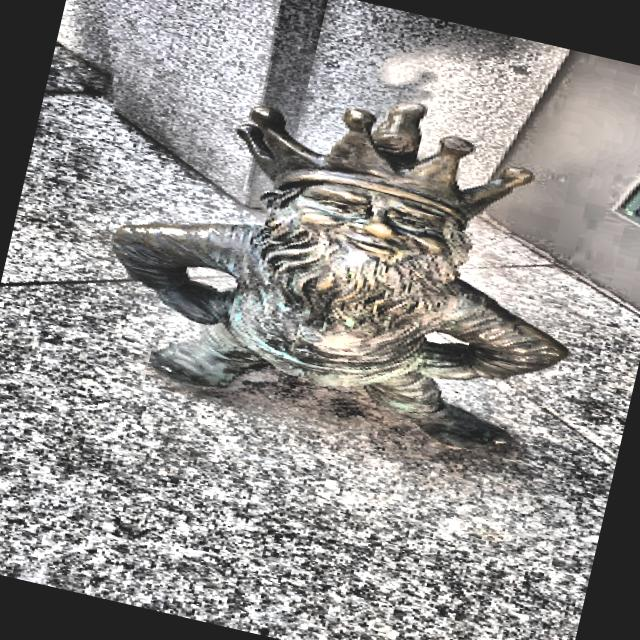Koronus: (112, 101, 568, 445)
